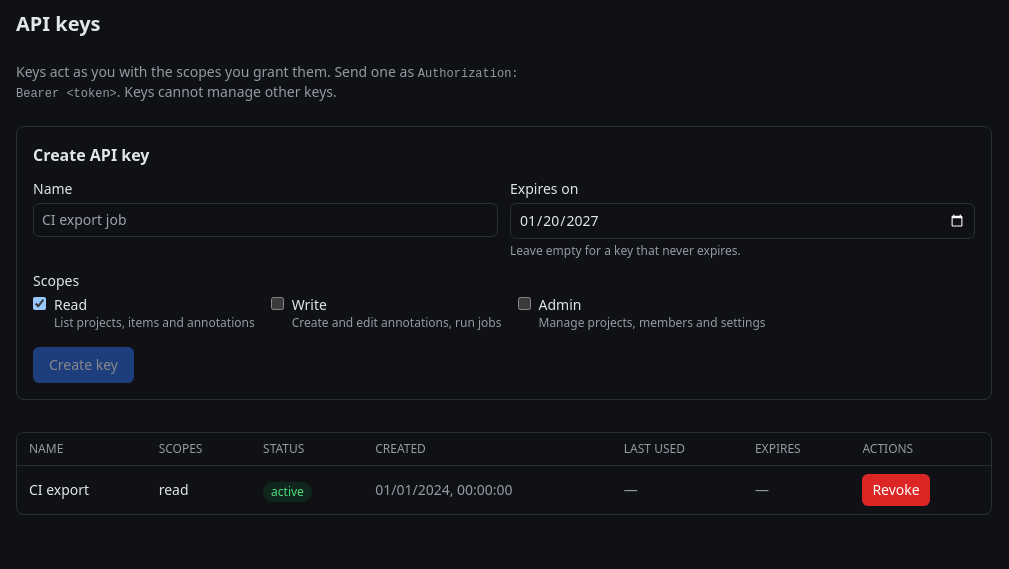
ApiKeysPage › revokes only after a second click, then refreshes the list
Click the button with aria-label "Revoke CI export": click(896, 490) [862,474,930,506]
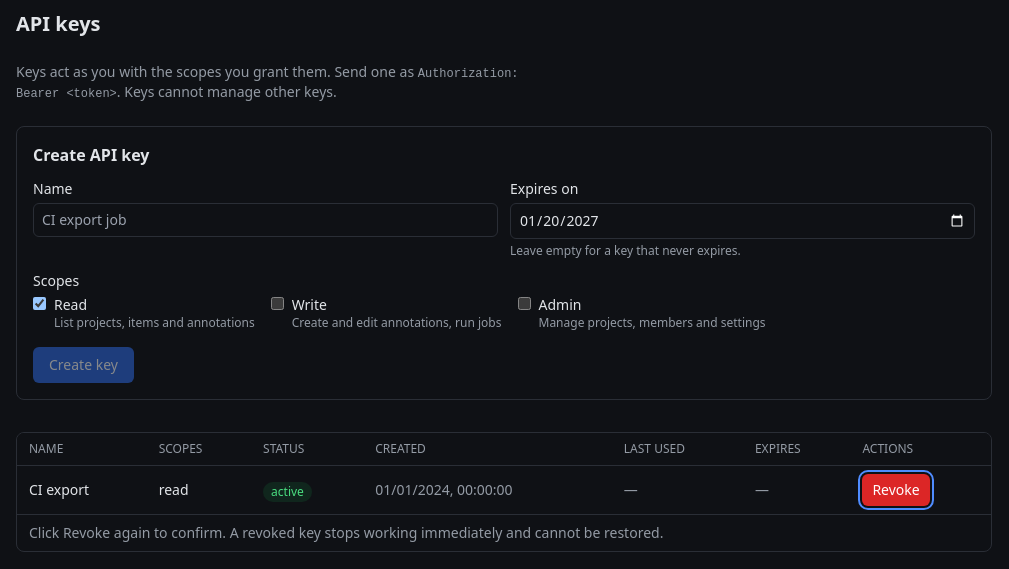
Check: the text "Click Revoke again to confirm" is shown, box [29,523,663,542]
Click the button with aria-label "Revoke CI export": click(896, 490) [862,474,930,506]
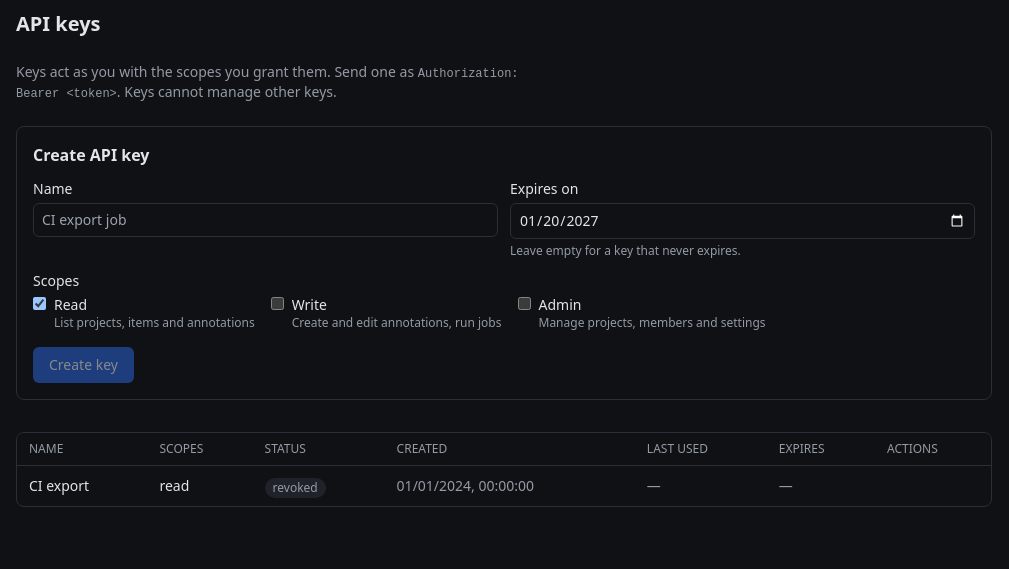
Check: the button "Revoke CI export" is not shown
Check: the text "revoked" is shown, box [265,478,326,498]
